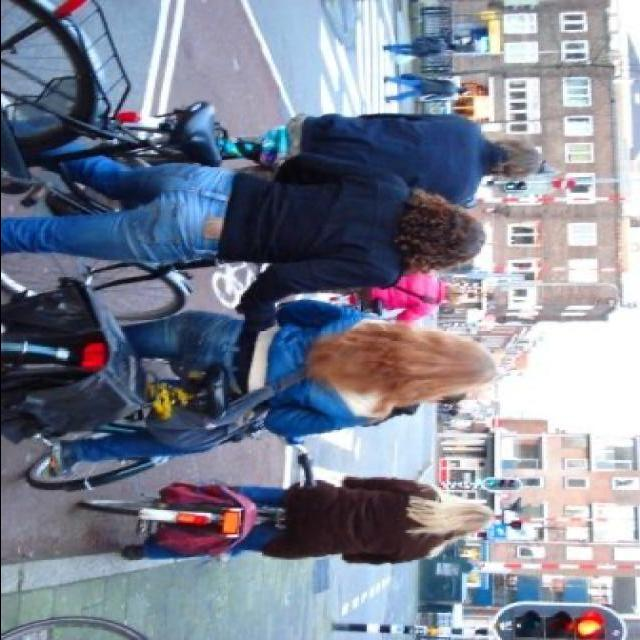bareface: (394, 332, 508, 408), (389, 207, 499, 274), (478, 133, 556, 187), (432, 490, 504, 540)
